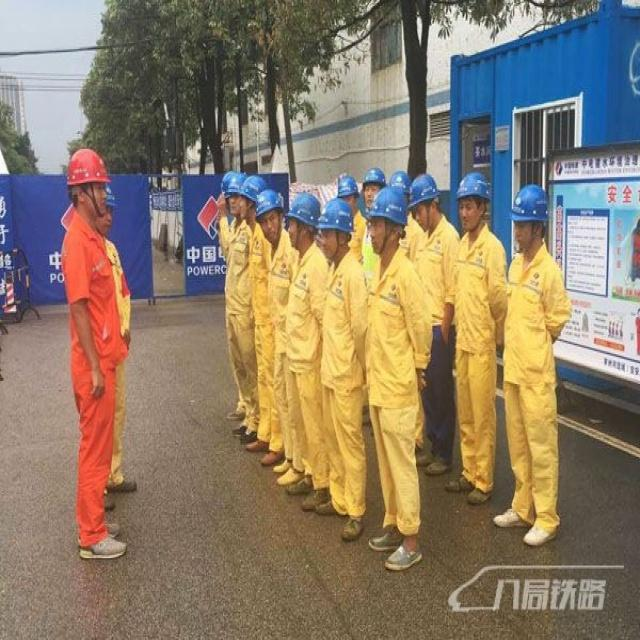helmet: (511, 240, 554, 341), (366, 245, 410, 340), (65, 196, 108, 289), (317, 260, 355, 351), (454, 225, 493, 312), (287, 252, 320, 336), (253, 251, 285, 328), (410, 232, 442, 309), (91, 243, 118, 312), (361, 221, 388, 279), (240, 232, 266, 292), (334, 230, 360, 286), (227, 233, 245, 291)
